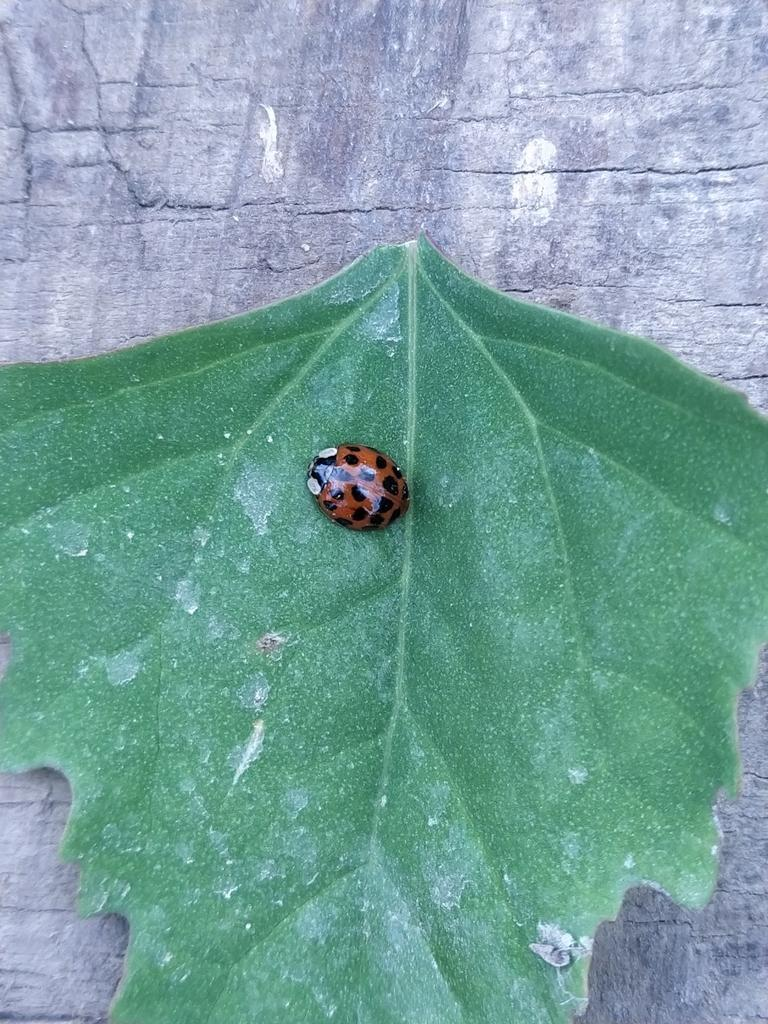ladybug: (307, 443, 413, 534)
